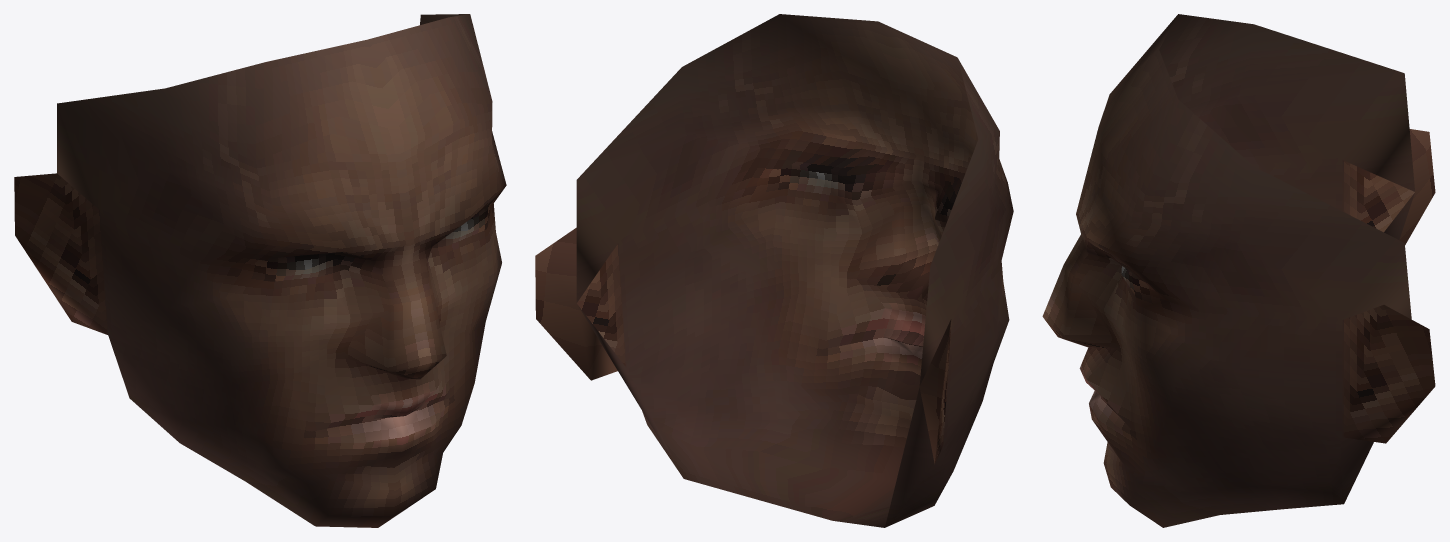
3 views of the same model, side by side, from view 1: azimuth 30°, elevation 25°; view 2: azimuth 150°, elevation 25°; view 3: azimuth 270°, elevation 25° (orthographic). The views are drawn at different scales.
Parts seen in each view (by area): view 1: editpl_m-0000-136, editpl_m-0000-135; view 2: editpl_m-0000-136, editpl_m-0000-135; view 3: editpl_m-0000-136, editpl_m-0000-135.
Boxes of the visible parts, <box> form: editpl_m-0000-136: <box>14,14,506,382</box>; editpl_m-0000-135: <box>108,322,485,527</box>; editpl_m-0000-136: <box>535,14,1013,464</box>; editpl_m-0000-135: <box>578,249,992,527</box>; editpl_m-0000-136: <box>1042,14,1435,443</box>; editpl_m-0000-135: <box>1044,193,1414,527</box>.
Bounding box in the file's own units: 17.18 × 18.64 × 14.46.
1 material, 1 textured.
